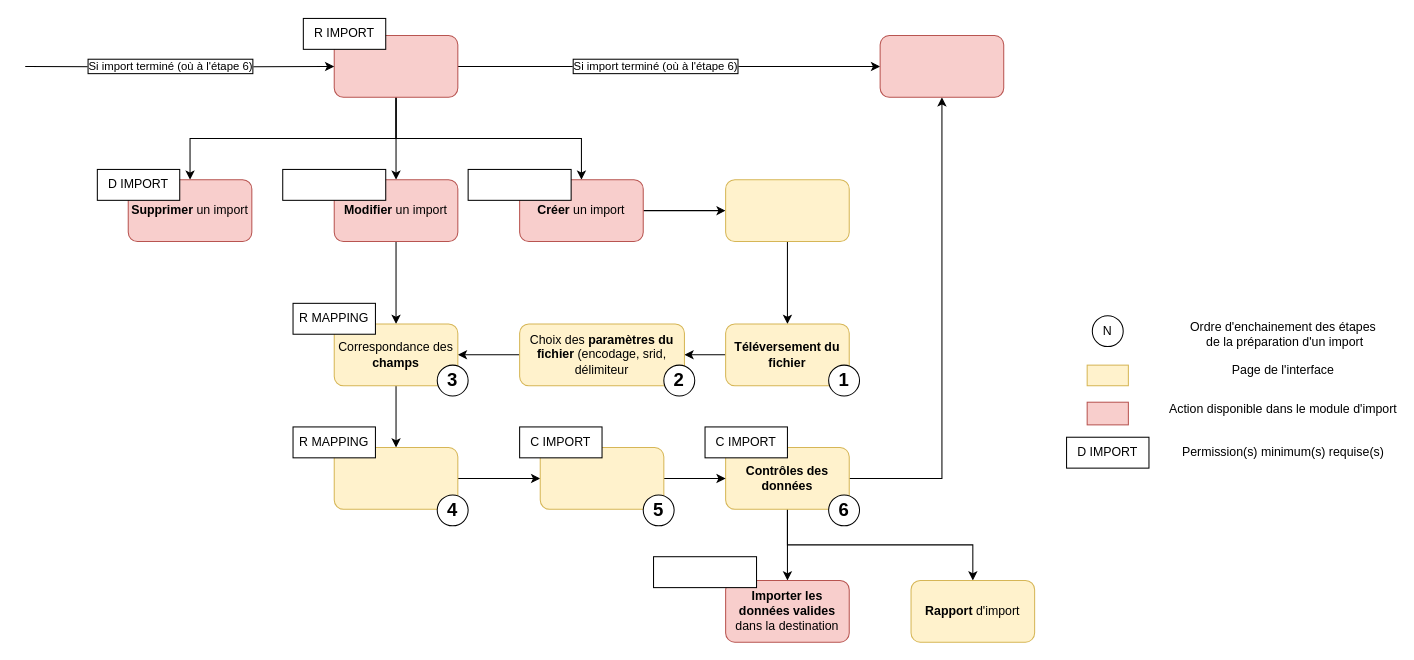
This 1414x660 diagram has some shape labels left out. Here are the shapes that lost their labels. From the top down, the centre of each, then its label:
point (395, 66): Liste d'imports
point (941, 66): Téléchargement des données invalides
point (334, 184): C+U+D IMPORT C DESTINATION
point (519, 184): C IMPORT + C DESTINATION
point (787, 210): Selection du module de destination
point (395, 478): Correspondance des nomenclatures
point (601, 478): Correspondances des observateurs
point (705, 572): C IMPORT+ C DESTINATION
